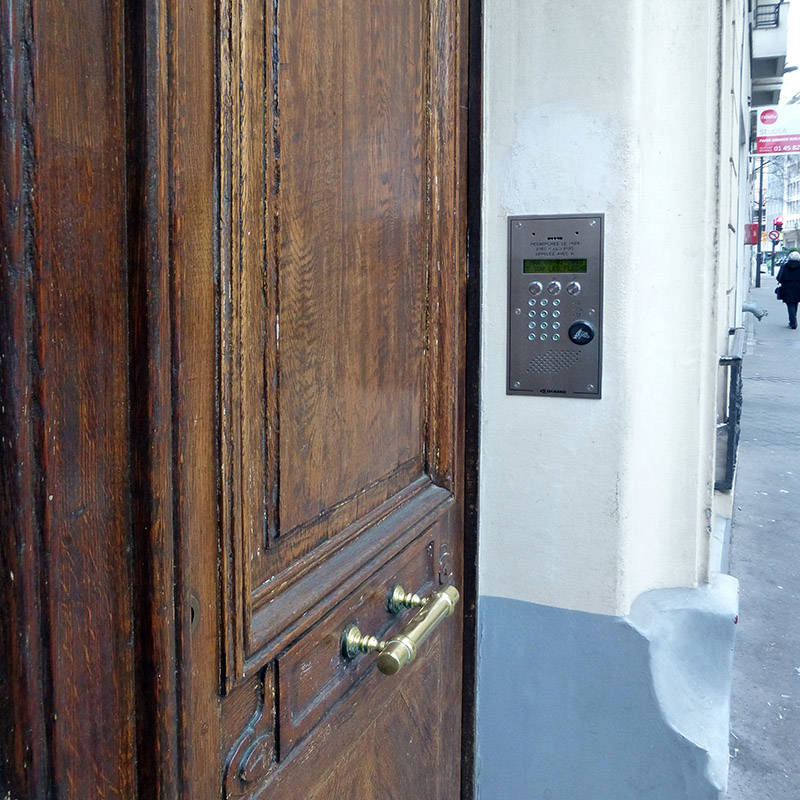digicode: (526, 297, 562, 345)
